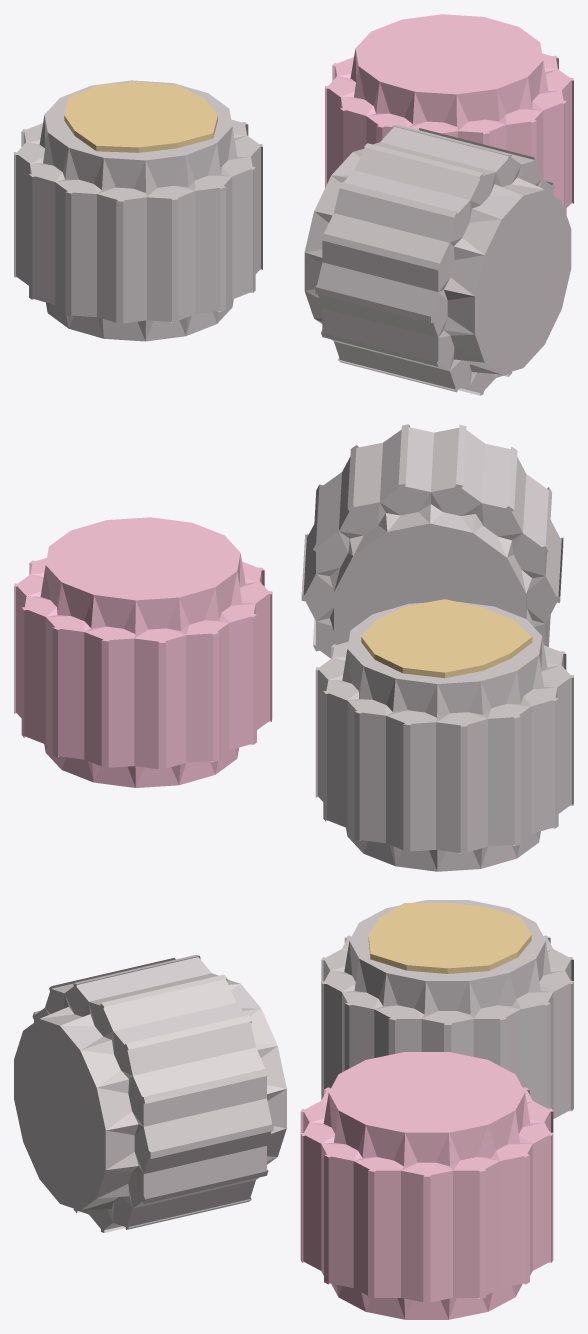
File: Marshmallow.fbx
3 views of the same model, one above another, from view 1: azimuth 30°, elevation 25°; view 2: azimuth 150°, elevation 25°; view 3: azimuth 270°, elevation 25° (orthographic). The views are drawn at different scales.
Parts seen in each view (by area): view 1: Top_FFF6F8, Top_FFC8DC, Top_F5D8A0; view 2: Top_FFF6F8, Top_FFC8DC, Top_F5D8A0; view 3: Top_FFF6F8, Top_FFC8DC, Top_F5D8A0.
Boxes of the visible parts, bbox=[...] form: Top_FFF6F8: bbox=[14, 80, 571, 395]; Top_FFC8DC: bbox=[325, 14, 573, 214]; Top_F5D8A0: bbox=[64, 82, 217, 152]; Top_FFF6F8: bbox=[301, 424, 573, 871]; Top_FFC8DC: bbox=[14, 517, 272, 787]; Top_F5D8A0: bbox=[361, 599, 532, 678]; Top_FFF6F8: bbox=[14, 900, 573, 1232]; Top_FFC8DC: bbox=[300, 1052, 553, 1319]; Top_F5D8A0: bbox=[368, 902, 531, 973].
Size of the model in its own units: 2 by 0.8196 by 1.82.
